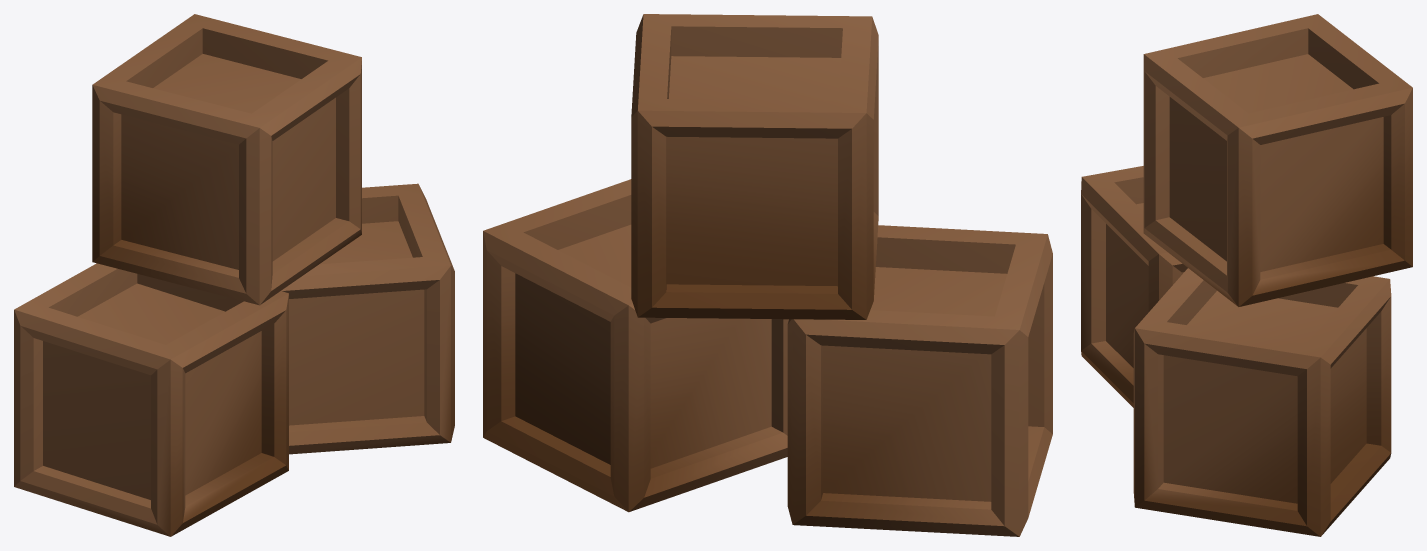
The model's file is WoodenBox_Stack.fbx.
3 renders of one model, left to right at view 1: azimuth 30°, elevation 25°; view 2: azimuth 150°, elevation 25°; view 3: azimuth 270°, elevation 25°, orthographic. The views are drawn at different scales.
Parts seen in each view (by area): view 1: WoodenBox_Stack; view 2: WoodenBox_Stack; view 3: WoodenBox_Stack.
Part boxes in pixels (x1,y1,x2,y2): WoodenBox_Stack: (14, 14, 454, 536); WoodenBox_Stack: (483, 14, 1052, 536); WoodenBox_Stack: (1081, 14, 1412, 536).
Bounding box in the file's own units: 2.25 × 1.77 × 1.48.
Materials: 1 (1 with a texture image).
